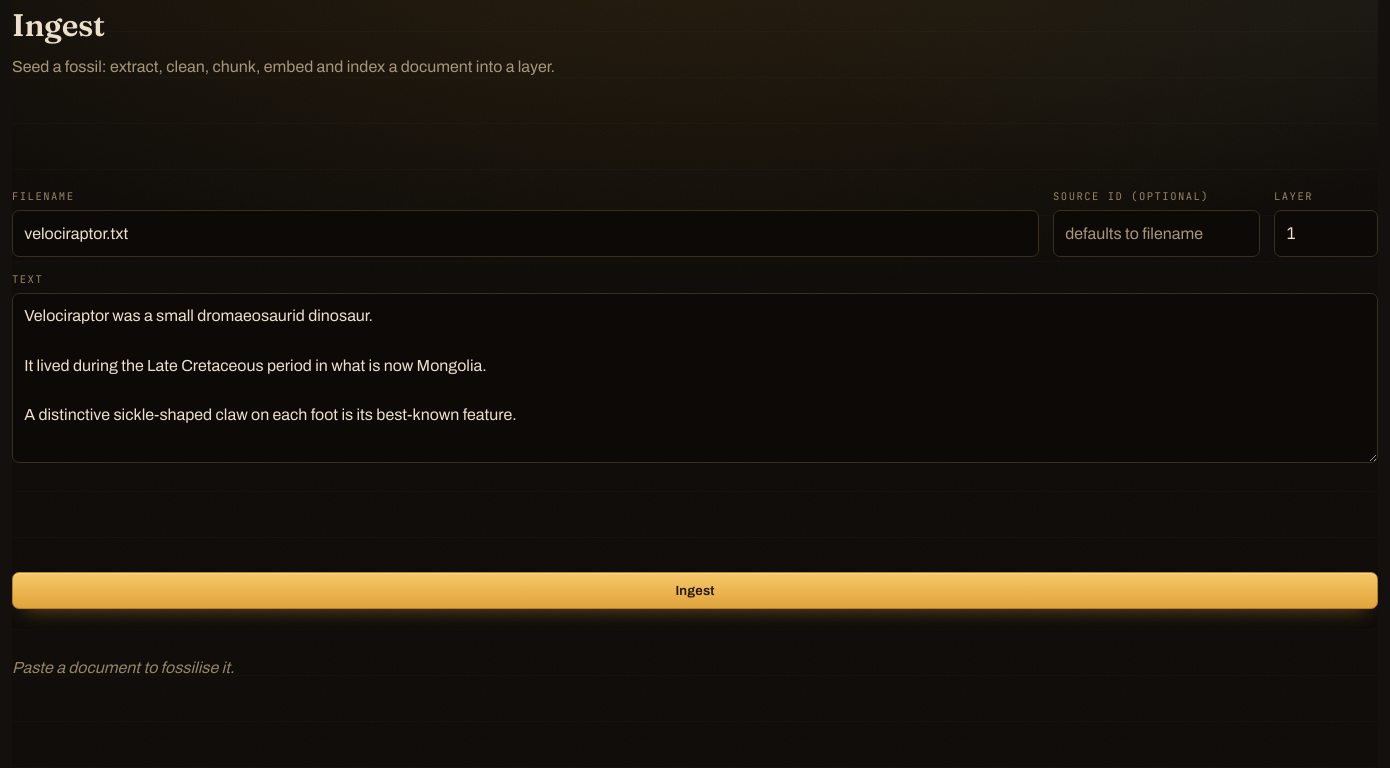
Test: IngestPanel › surfaces a validation error
This screenshot has width=1390, height=768.
Click the button "Ingest" at (695, 591), box [12,572,1378,609]
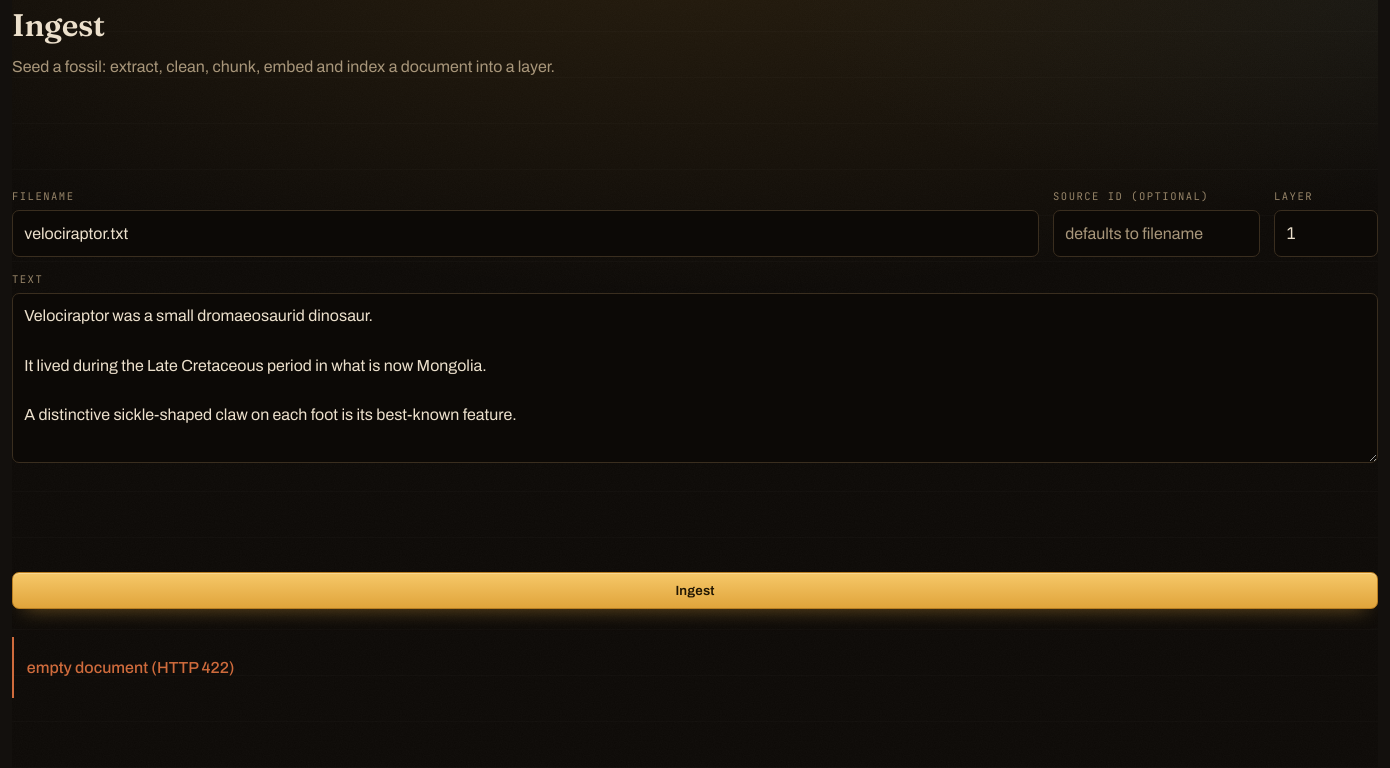
Now the message shows "empty document", box [27,659,235,676]
